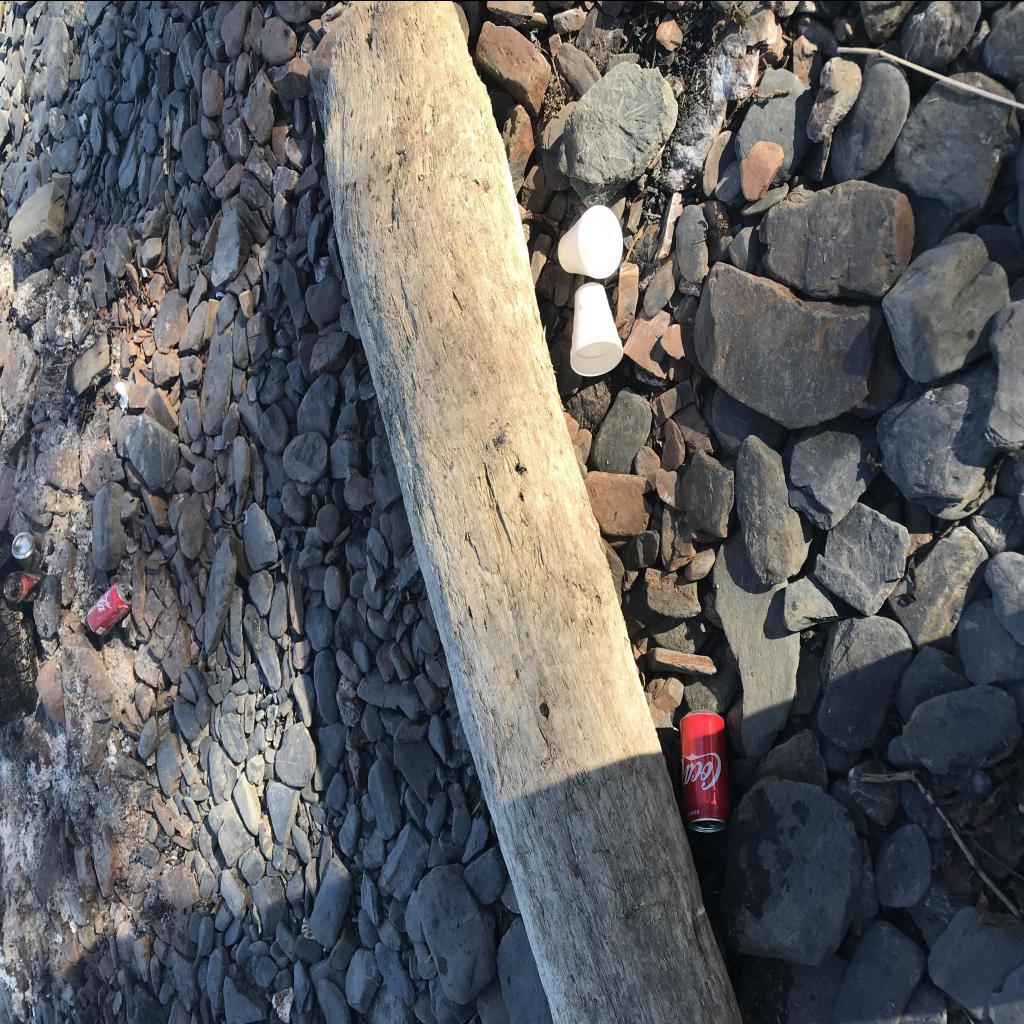Drink can: (680, 708, 730, 832), (88, 581, 131, 636), (2, 568, 46, 602), (12, 530, 37, 567)
Foam cup: (570, 282, 624, 376), (558, 204, 622, 278)
Pop tab: (121, 584, 129, 596)
Unlabeled litter: (114, 380, 128, 408)
